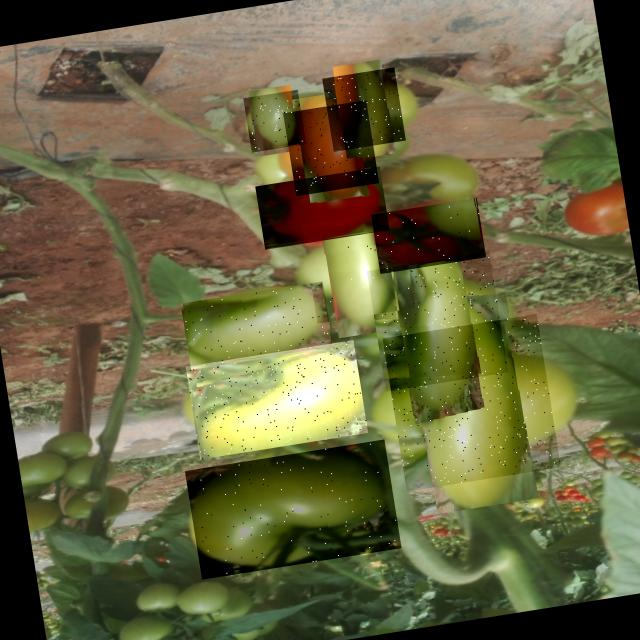Ripe Tomato: (256, 166, 390, 249), (371, 198, 486, 274)
Unripe Tomato: (383, 314, 561, 492), (185, 440, 402, 580), (185, 340, 368, 459), (366, 252, 508, 392), (180, 281, 334, 371), (302, 210, 415, 324), (283, 100, 379, 196), (322, 67, 406, 152), (244, 90, 306, 152)
